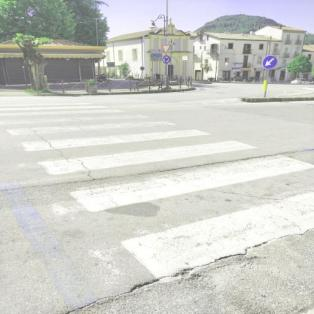Paso de Cebra: (12, 127, 261, 179)
